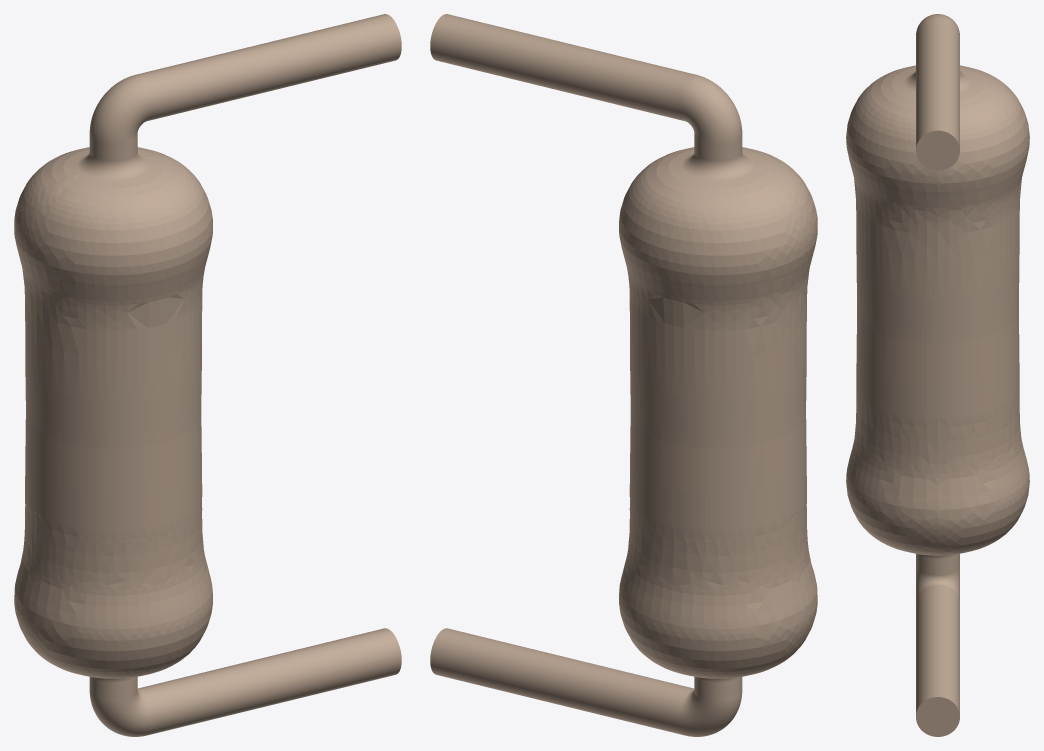
The model's file is resistor.fbx.
3 views of the same model, side by side, from view 1: azimuth 30°, elevation 25°; view 2: azimuth 150°, elevation 25°; view 3: azimuth 270°, elevation 25° (orthographic). The views are drawn at different scales.
Parts seen in each view (by area): view 1: ImageToStl.com_resistor025w-1k0.003; view 2: ImageToStl.com_resistor025w-1k0.003; view 3: ImageToStl.com_resistor025w-1k0.003.
Part boxes in pixels (box(x1,y1,x2,y2)): ImageToStl.com_resistor025w-1k0.003: box(14, 14, 401, 736); ImageToStl.com_resistor025w-1k0.003: box(430, 14, 817, 736); ImageToStl.com_resistor025w-1k0.003: box(846, 14, 1029, 736).
Bounding box in the file's own units: 15.75 × 27.3 × 7.5.
